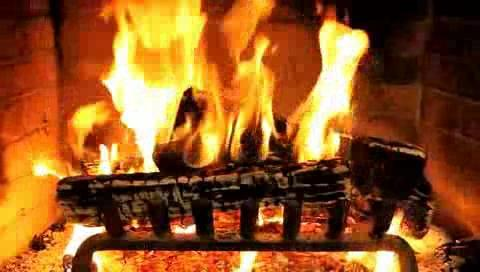fire: (59, 3, 373, 173)
